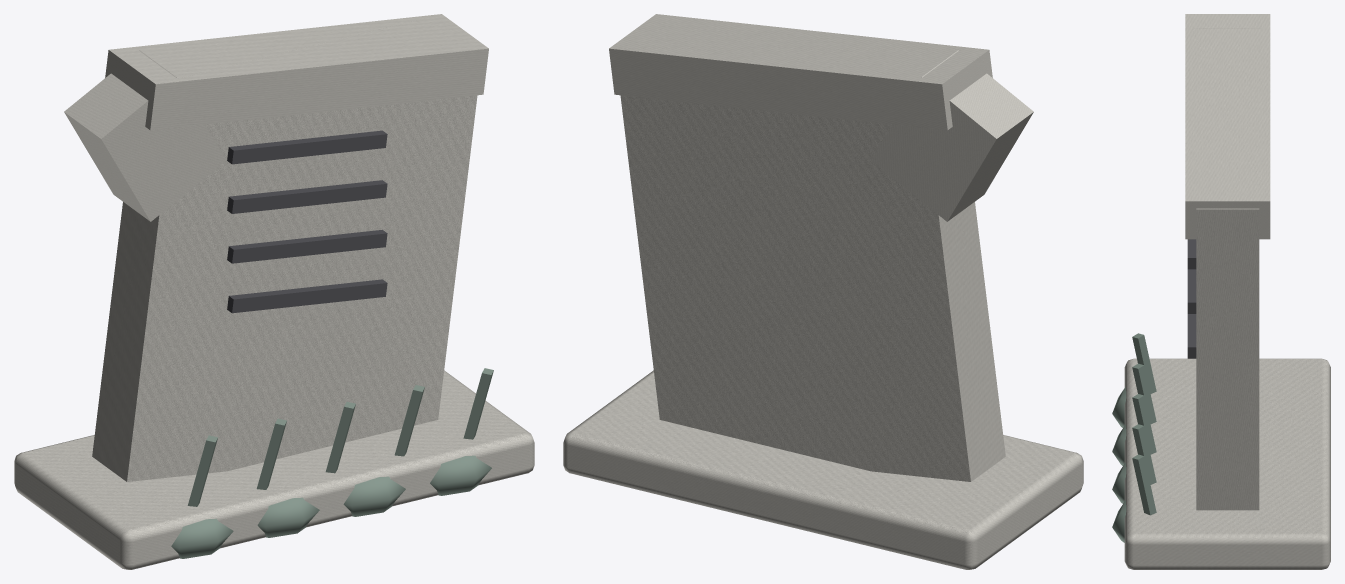
The model's file is tombstone-slab.glb.
3 views of the same model, side by side, from view 1: azimuth 30°, elevation 25°; view 2: azimuth 150°, elevation 25°; view 3: azimuth 270°, elevation 25° (orthographic). The views are drawn at different scales.
Visible parts, largest first — view 1: foam-tombstone-slab; view 2: foam-tombstone-slab; view 3: foam-tombstone-slab.
Part boxes in pixels (bbox=[...]): foam-tombstone-slab: bbox=[14, 14, 534, 569]; foam-tombstone-slab: bbox=[563, 14, 1083, 569]; foam-tombstone-slab: bbox=[1112, 14, 1330, 569].
Bounding box in the file's own units: 0.96 × 1.01 × 0.4882.
Materials: 3 (1 with a texture image).
